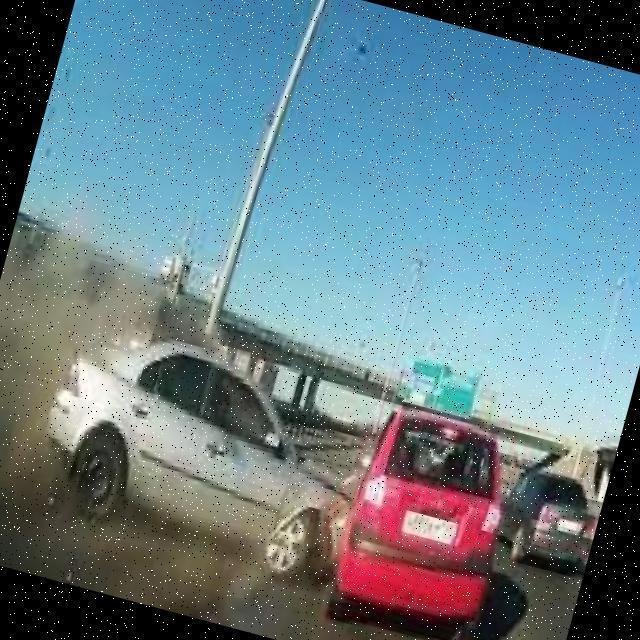accident: (17, 306, 532, 640)
